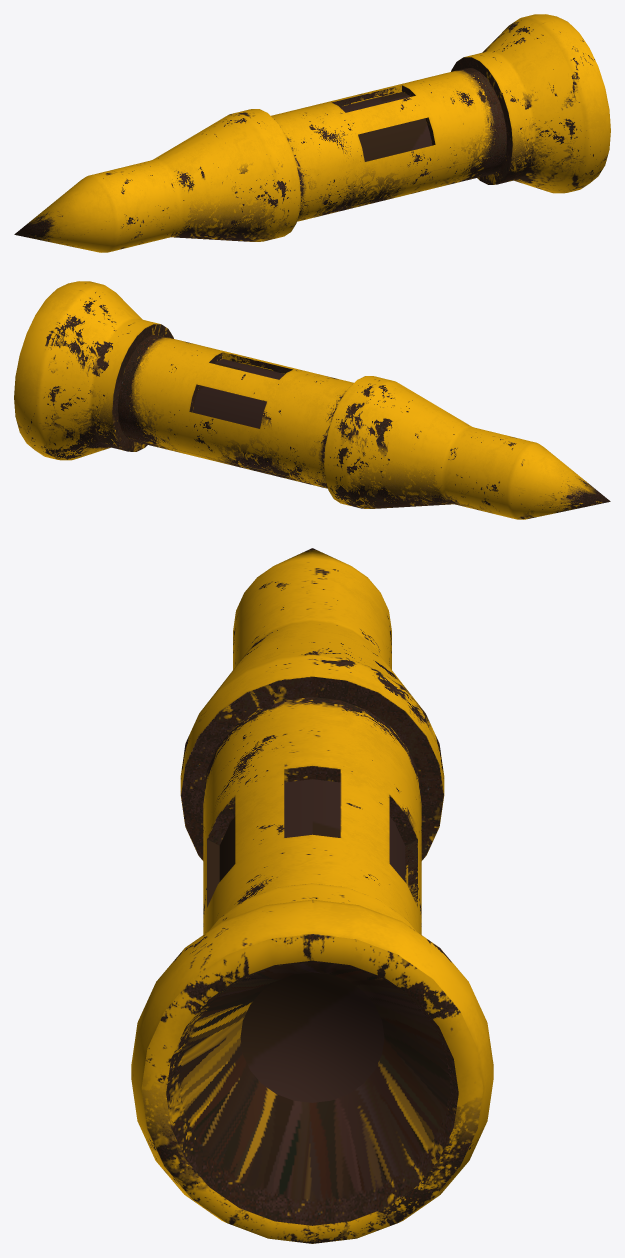
The model's file is Missile.fbx.
3 renders of one model, top to bottom at view 1: azimuth 30°, elevation 25°; view 2: azimuth 150°, elevation 25°; view 3: azimuth 270°, elevation 25°, orthographic. The views are drawn at different scales.
Visible parts, largest first — view 1: Cylinder; view 2: Cylinder; view 3: Cylinder.
Part boxes in pixels (box(x1,y1,x2,y2)): Cylinder: box(14, 14, 610, 252); Cylinder: box(14, 281, 610, 519); Cylinder: box(131, 548, 493, 1243).
Size of the model in its own units: 32.13 by 9.03 by 9.03.
1 material, 1 textured.
